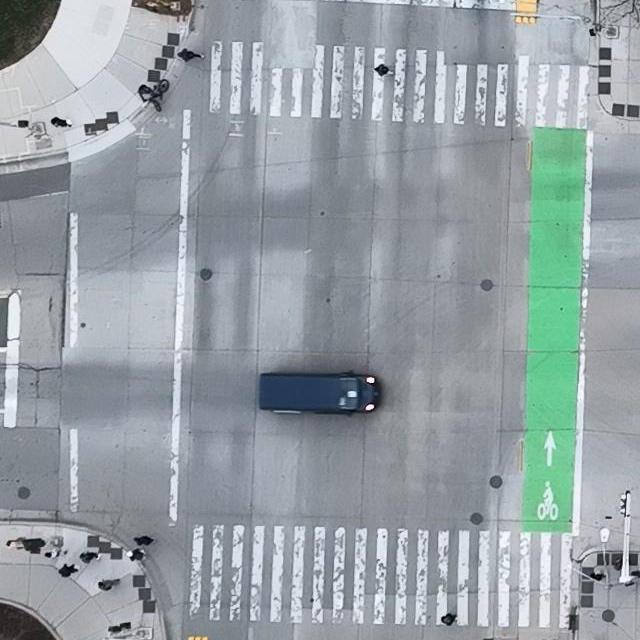car: (259, 371, 382, 417)
